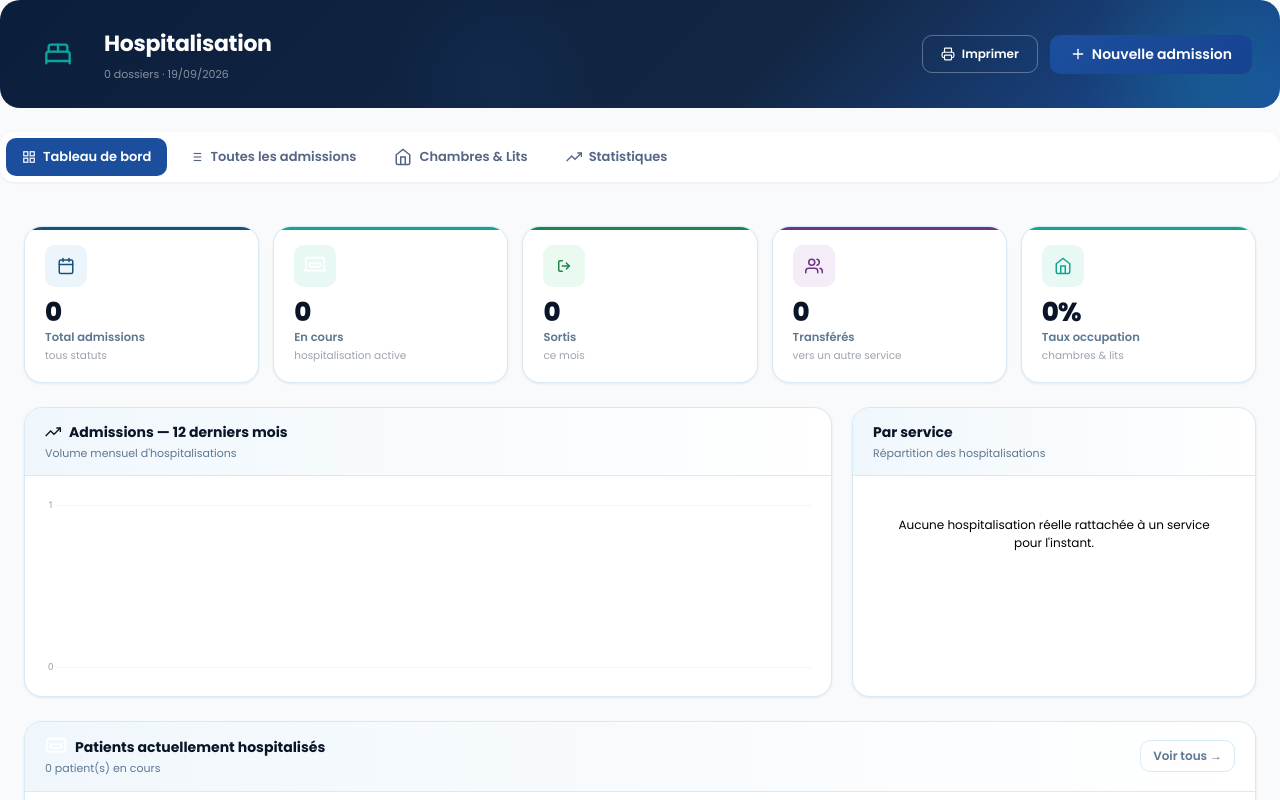
HOSP-01 — un seul appel réel à /hospitalization/rooms au montage, "Chambres & Lits" reflète la même source unique
Check: the text "Tableau de bord" is shown, box [43,147,151,166]
Click the button "Chambres & Lits" at (461, 157), box [378,138,544,176]
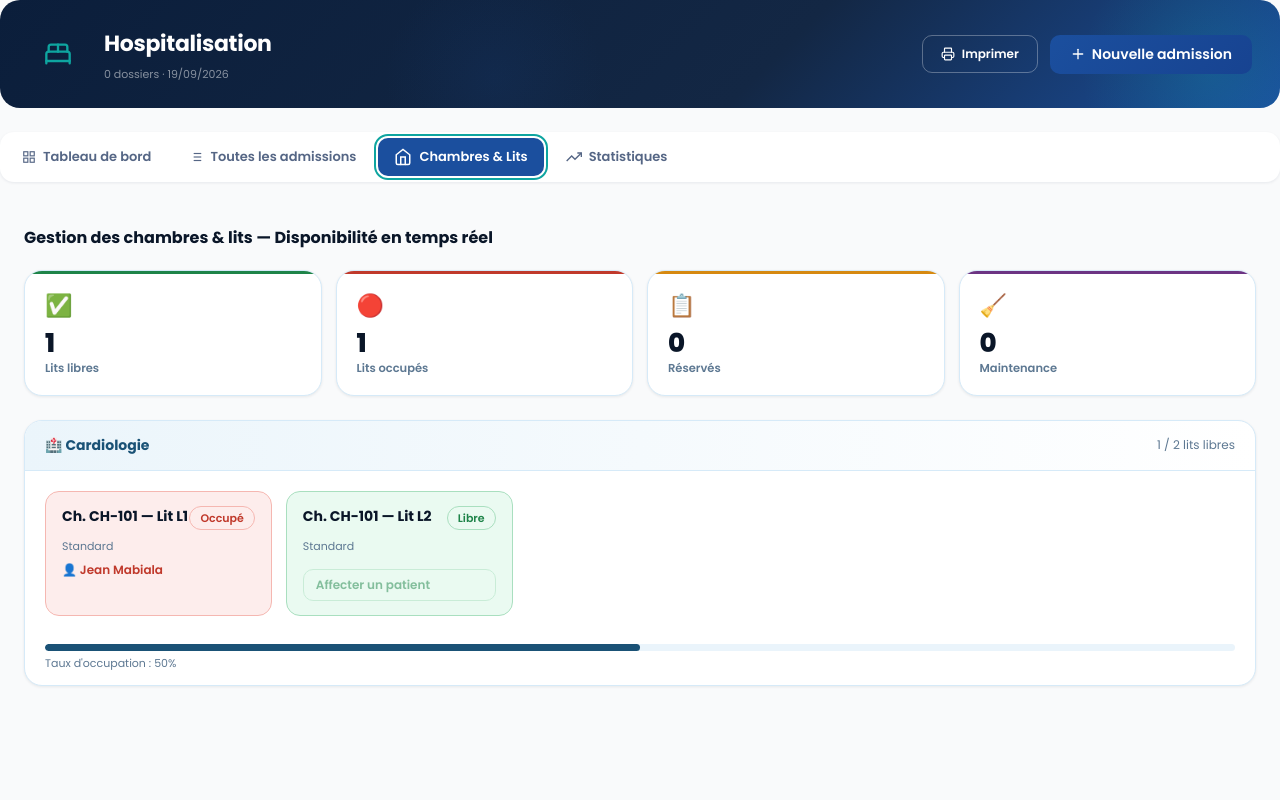
Check: the text "👤 Jean Mabiala" is shown, box [62,561,163,578]
